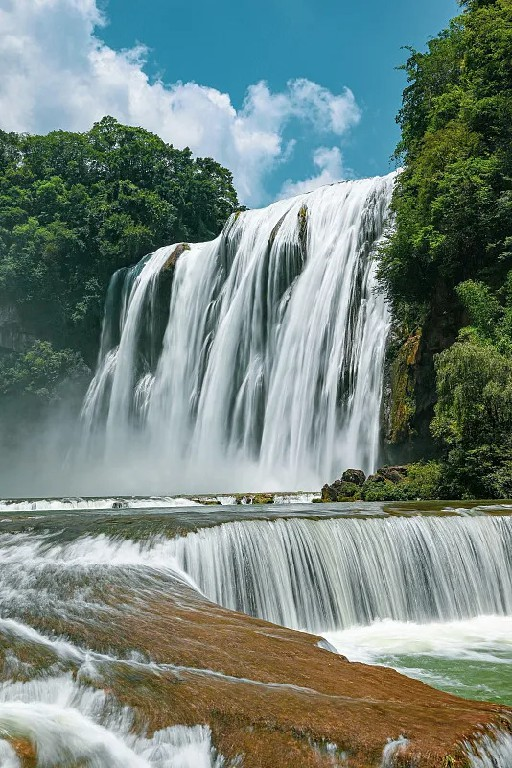Huangguoshu: (83, 167, 402, 492)
